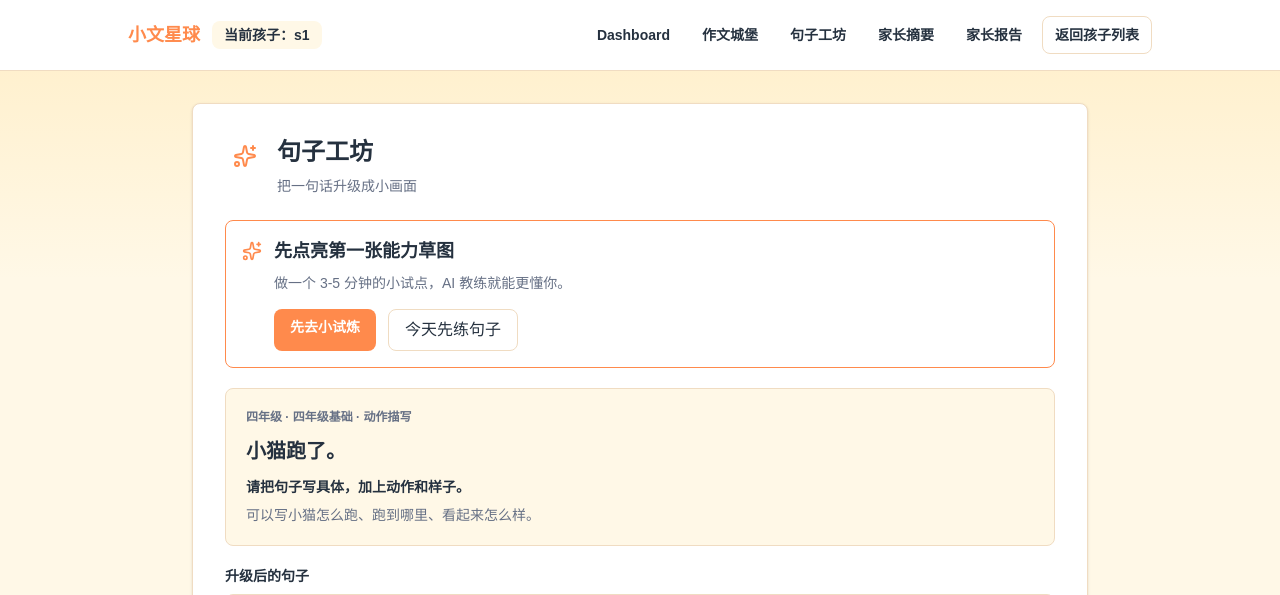
Test: sentence page recommends initial assessment but allows continuing practice
Expected: the heading "先点亮第一张能力草图" is shown, [274,241,454,261]
Click the button "今天先练句子".
click(453, 330)  # box [388,309,518,351]
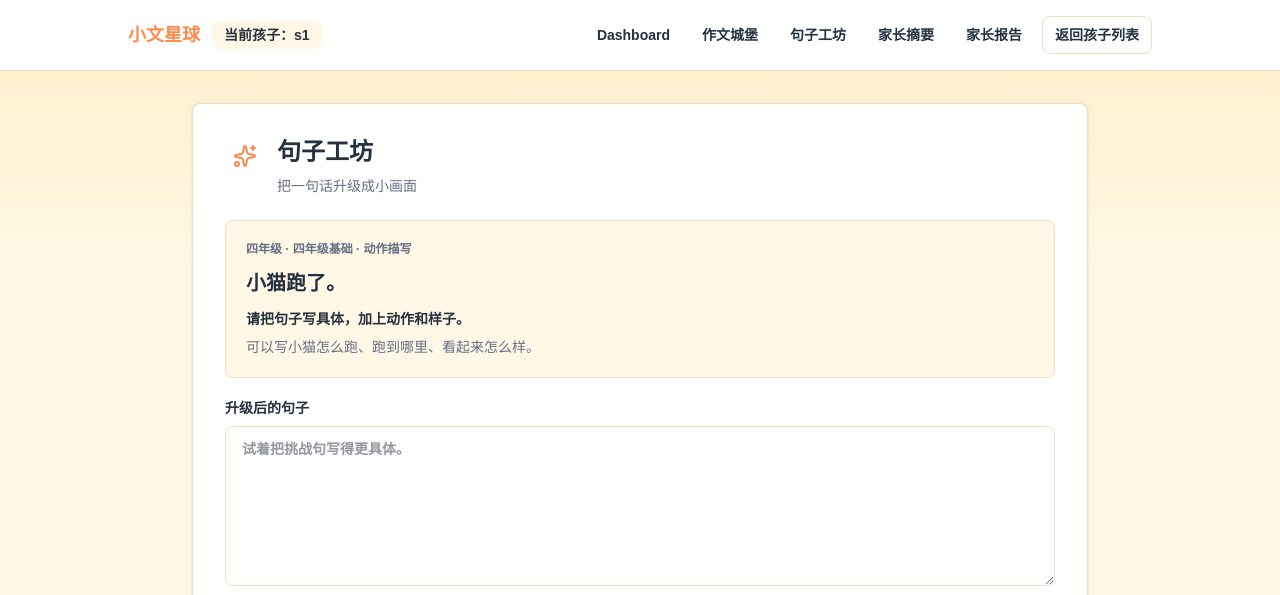
Expected: the text "小猫跑了。" is shown, [246,272,346,294]
Result: the heading "先点亮第一张能力草图" is gone
